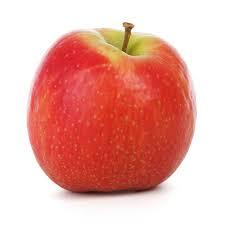Apple: (28, 28, 198, 193)
